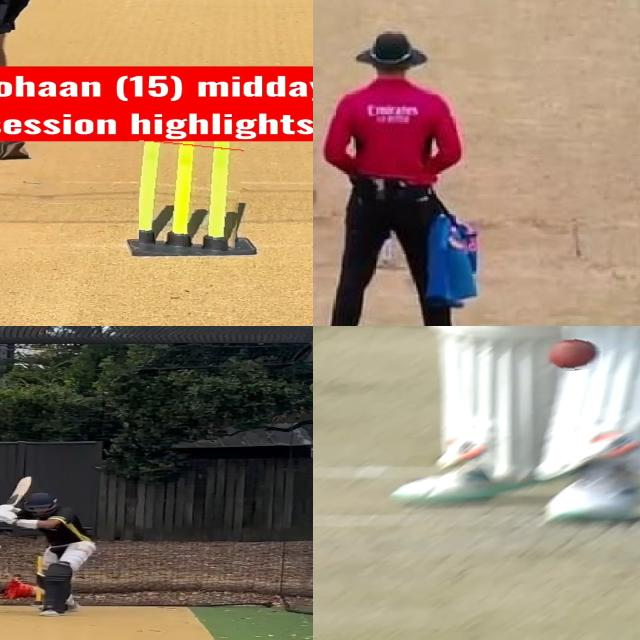Cricket ball: (543, 338, 603, 372)
Stumps: (139, 140, 244, 256)
